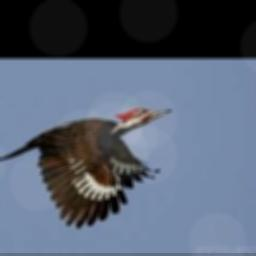Woodpecker: (0, 108, 171, 228)
